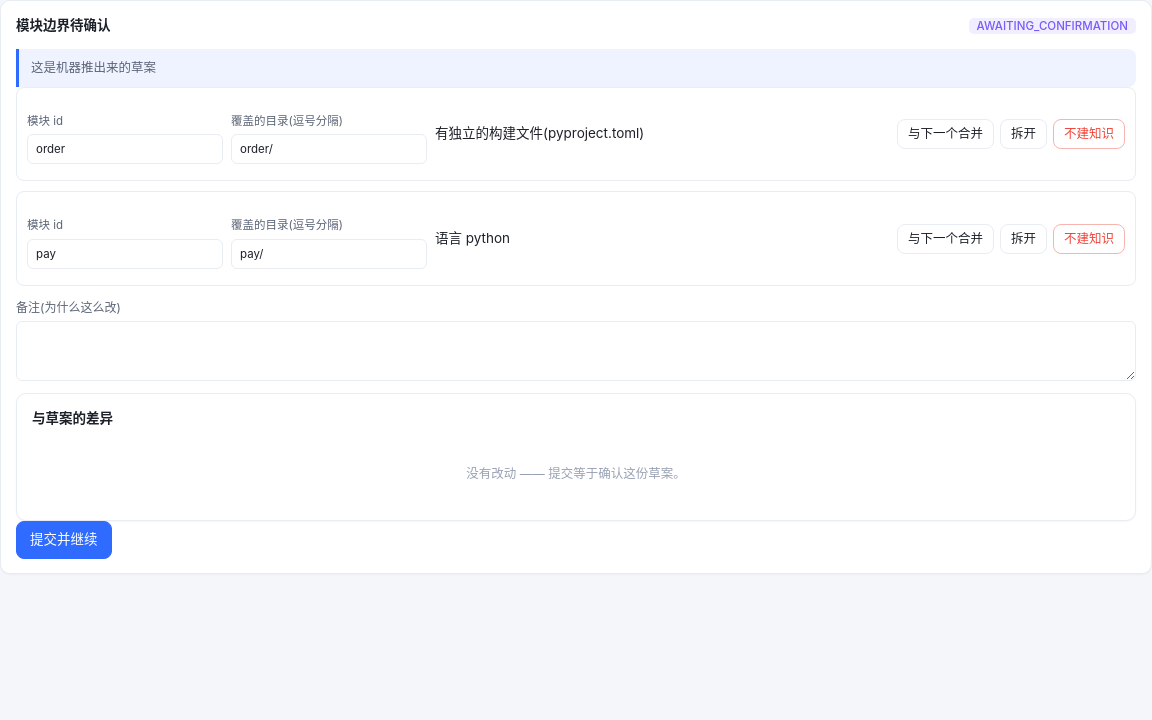
it: BoundaryGate › shows what changed before the human submits
Expected: the field showing "order" in the row of "有独立的构建文件(pyproject.toml)" is shown, top-left (27, 134), bottom-right (223, 164)
Click the button "不建知识" in the row of "有独立的构建文件(pyproject.toml)" at (1089, 134), box top-left (1053, 119), bottom-right (1125, 149)
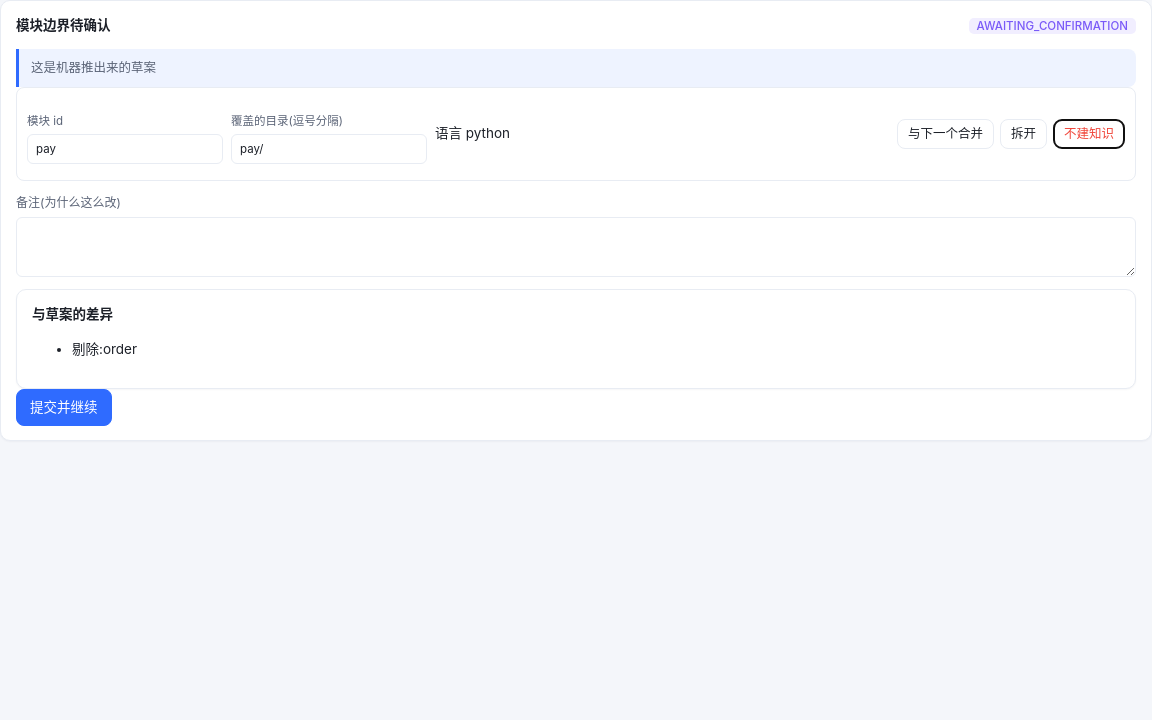
Result: the list item "剔除:order" is shown at top-left (72, 341), bottom-right (137, 357)
